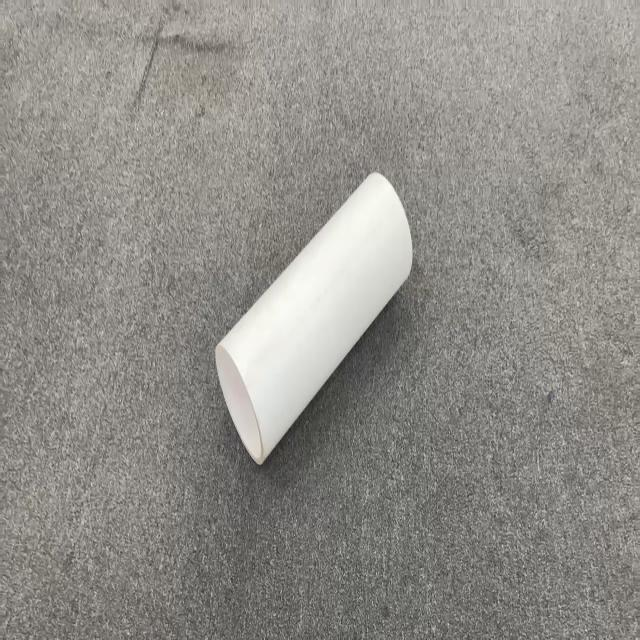coral: (214, 169, 413, 466)
